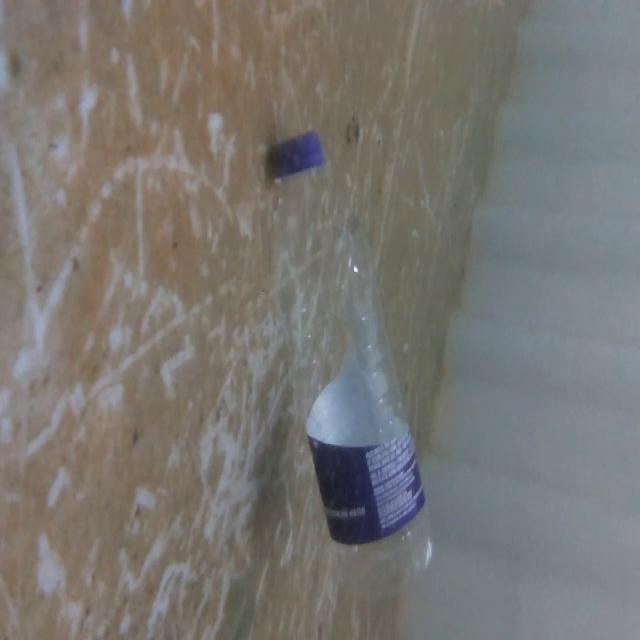plastic bottle: (253, 115, 439, 604)
